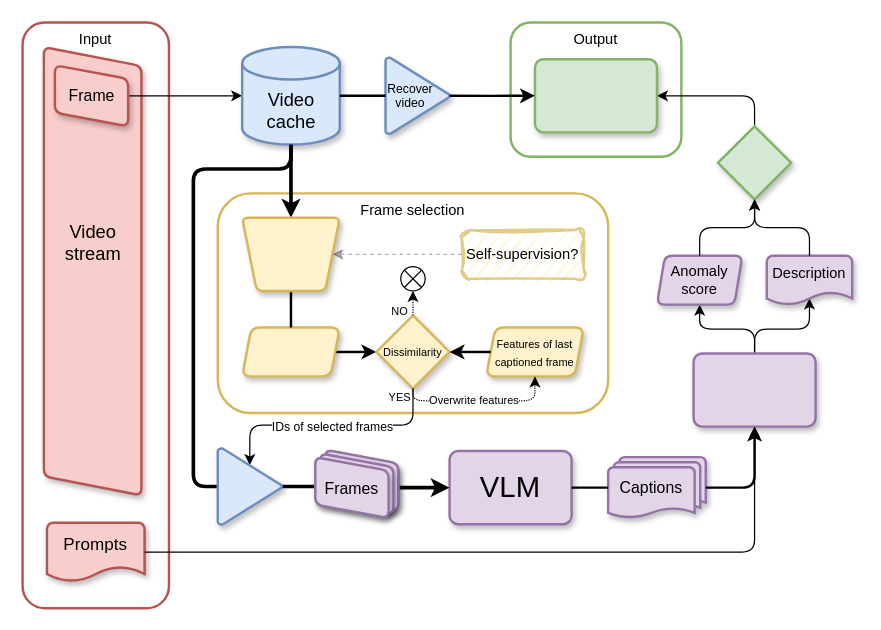
Image size: 881x630. Some labels were removed from this diagram. The shapes that lost their labels are listed below. From the top down, each one's centre as x and y in pixels, then its label:
At pixel 596 97: "Video of anomaly with description and score".
At pixel 755 164: "Anomaly detected".
At pixel 291 255: "Feature extractor".
At pixel 291 353: "Features".
At pixel 755 391: "LLM".
At pixel 250 487: "Filter".
